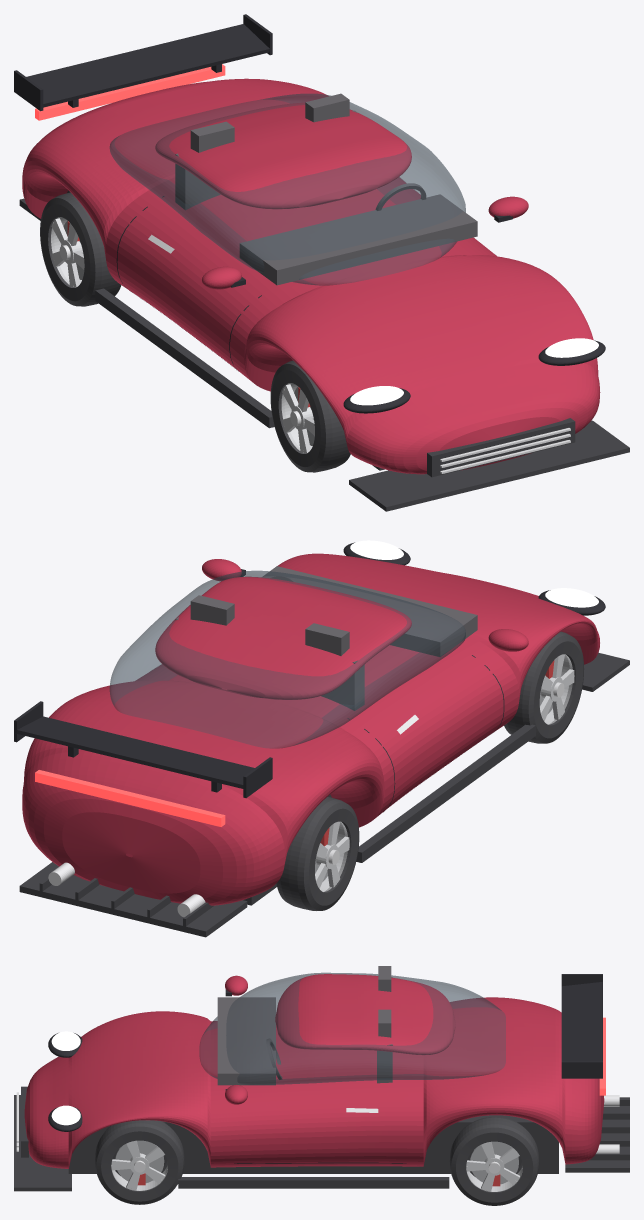
Rendered from sports_car.glb.
3 views of the same model, one above another, from view 1: azimuth 30°, elevation 25°; view 2: azimuth 150°, elevation 25°; view 3: azimuth 270°, elevation 25° (orthographic). The views are drawn at different scales.
Parts seen in each view (by area): view 1: body, glass, roof, dash, wing, splitter, wheel_RR_tire, wheel_FR_tire, skirt_-1, grille, taillight, seat_back_-1 (+9 smaller); view 2: body, glass, roof, wing, wheel_RR_tire, dash, diffuser, wheel_FR_tire, skirt_-1, taillight, splitter, headrest_-1 (+9 smaller); view 3: body, glass, roof, underbody, dash, wheel_RL_tire, wheel_FL_tire, skirt_1, wing, splitter, diffuser, wheel_FL_spokes (+13 smaller).
Boxes of the visible parts, <box> form: body: <box>22,78,600,474</box>; glass: <box>109,93,465,285</box>; roof: <box>155,102,411,209</box>; dash: <box>239,194,477,285</box>; wing: <box>26,24,270,107</box>; splitter: <box>349,420,629,511</box>; wheel_RR_tire: <box>40,192,121,306</box>; wheel_FR_tire: <box>270,360,350,472</box>; skirt_-1: <box>95,288,274,428</box>; grille: <box>427,418,575,477</box>; taillight: <box>35,64,225,120</box>; seat_back_-1: <box>175,153,220,209</box>; body: <box>22,553,599,905</box>; glass: <box>109,570,465,748</box>; roof: <box>155,576,411,699</box>; wing: <box>15,716,254,789</box>; wheel_RR_tire: <box>276,797,359,910</box>; dash: <box>262,566,477,656</box>; diffuser: <box>19,862,247,937</box>; wheel_FR_tire: <box>504,631,584,743</box>; skirt_-1: <box>356,724,535,862</box>; taillight: <box>35,770,225,826</box>; splitter: <box>582,652,629,691</box>; headrest_-1: <box>305,623,349,655</box>; body: <box>24,997,604,1168</box>; glass: <box>199,972,505,1085</box>; roof: <box>275,974,455,1055</box>; underbody: <box>68,1115,558,1173</box>; dash: <box>217,997,275,1085</box>; wheel_RL_tire: <box>449,1116,539,1205</box>; wheel_FL_tire: <box>95,1120,184,1204</box>; skirt_1: <box>178,1177,449,1188</box>; wing: <box>561,982,602,1060</box>; splitter: <box>14,1095,71,1191</box>; diffuser: <box>565,1097,629,1172</box>; wheel_FL_spokes: <box>111,1140,165,1190</box>.
Size of the model in its own units: 2.26 by 1.39 by 4.78.
